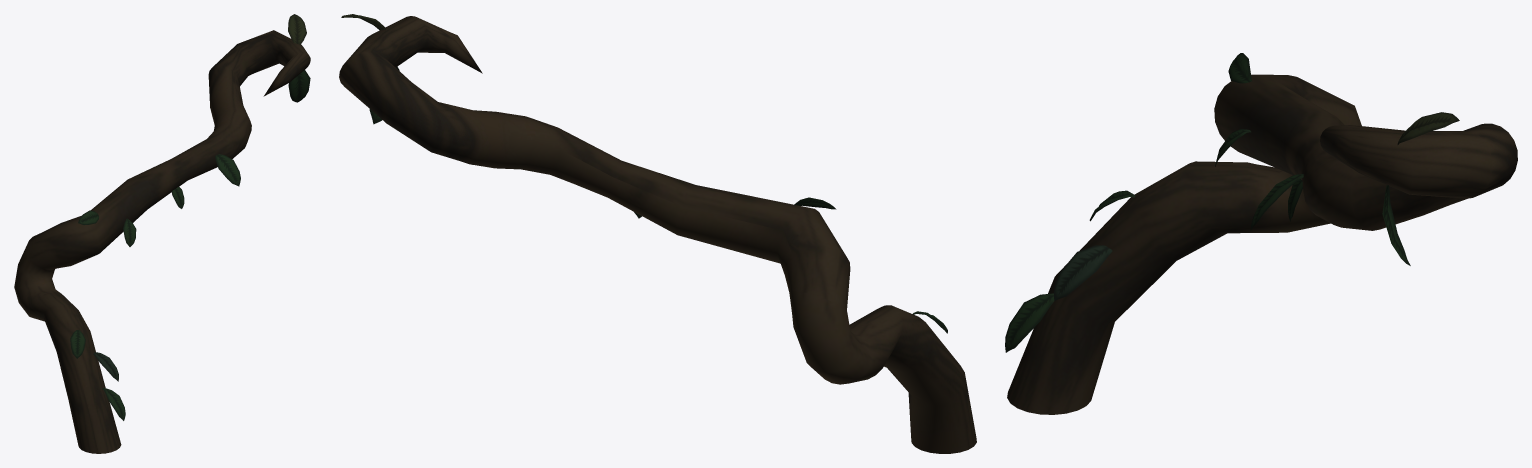
File: raiz1.fbx
The picture shows the model from 3 angles, left to right: view 1: azimuth 30°, elevation 25°; view 2: azimuth 150°, elevation 25°; view 3: azimuth 270°, elevation 25°; orthographic projection. The views are drawn at different scales.
Visible parts, largest first — view 1: polySurface89, pPlane28, pPlane13, pPlane35, pPlane8, pPlane7, pPlane1; view 2: polySurface89; view 3: polySurface89, pPlane1, pPlane8, pPlane35, pPlane28, pPlane13, pPlane32.
Boxes of the visible parts, <box> form: polySurface89: <box>14,30,310,453</box>; pPlane28: <box>288,70,310,102</box>; pPlane13: <box>215,154,240,186</box>; pPlane35: <box>288,14,306,44</box>; pPlane8: <box>102,388,125,420</box>; pPlane7: <box>70,330,85,358</box>; pPlane1: <box>93,352,118,381</box>; polySurface89: <box>339,16,976,453</box>; polySurface89: <box>1007,74,1517,414</box>; pPlane1: <box>1054,245,1112,300</box>; pPlane8: <box>1005,293,1054,352</box>; pPlane35: <box>1397,112,1459,144</box>; pPlane28: <box>1382,185,1410,265</box>; pPlane13: <box>1250,174,1303,230</box>; pPlane32: <box>1228,53,1252,83</box>.
Bounding box in the file's own units: 84.9 × 71.47 × 58.58.
2 materials, 2 textured.
